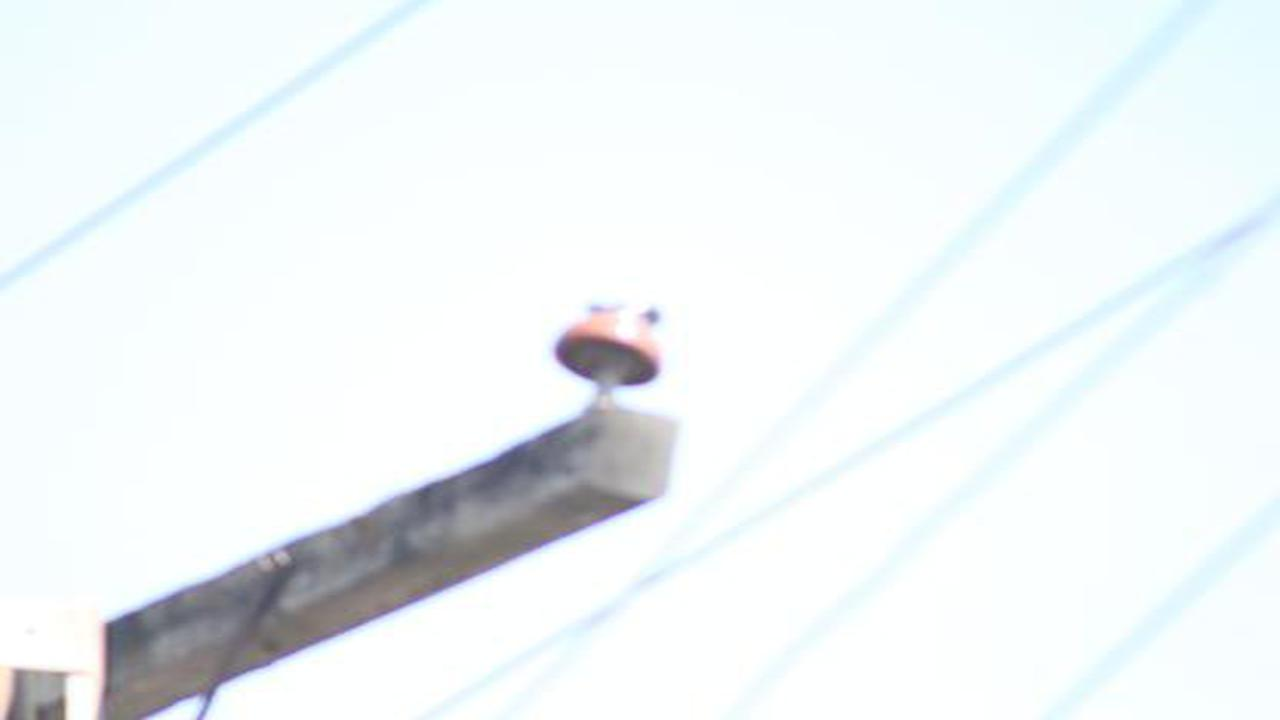insulator_pin: (552, 295, 667, 393)
